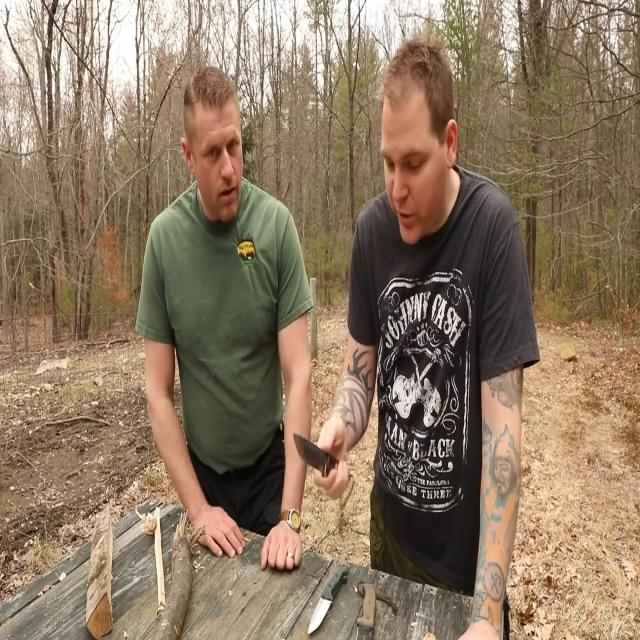knife: (307, 557, 350, 640), (293, 427, 332, 480), (353, 574, 377, 640)
